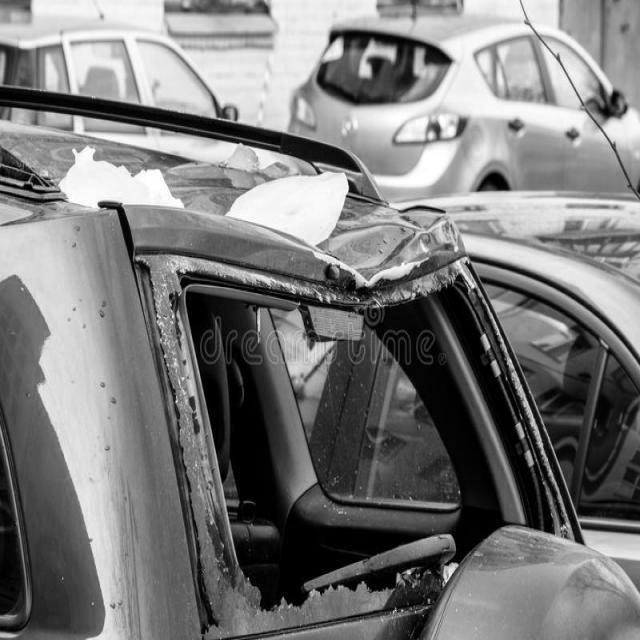Rear-windscreen-Damage: (175, 265, 545, 604)
roof-dent: (0, 126, 458, 267)
